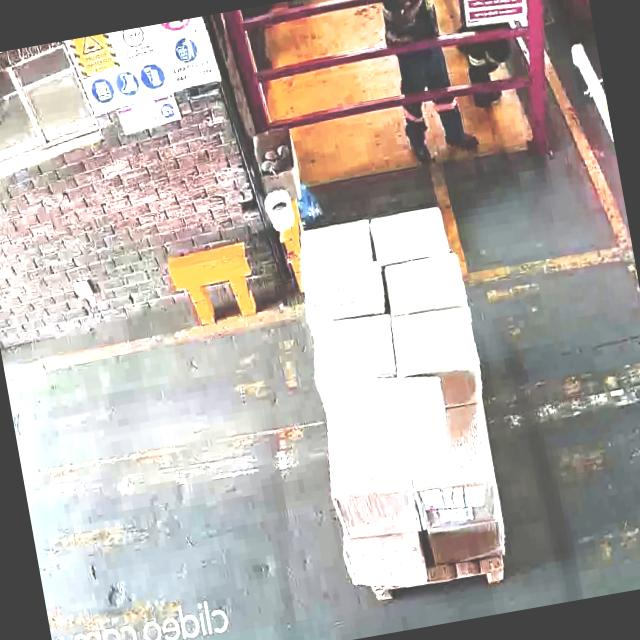Box: (343, 376, 463, 486), (305, 311, 399, 390), (390, 301, 480, 381), (380, 254, 468, 315), (416, 467, 502, 528), (332, 474, 418, 535), (303, 262, 388, 322), (373, 203, 451, 267), (294, 216, 376, 274), (346, 532, 424, 590), (426, 518, 508, 566)
